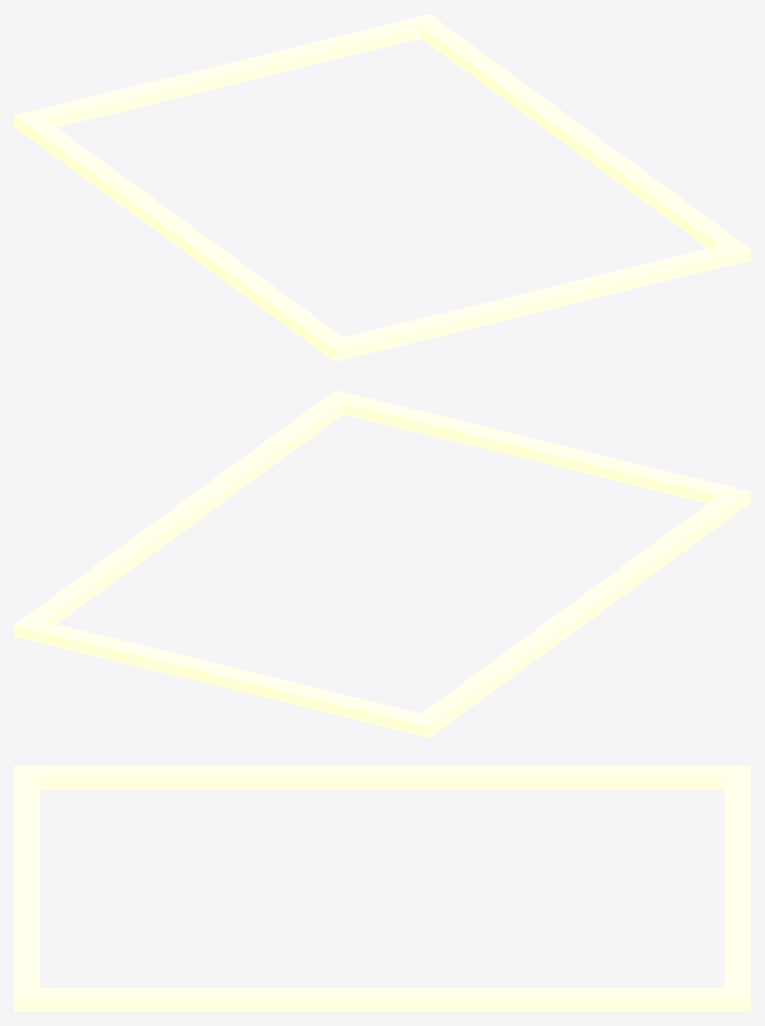
Rendered from sp_gt_rim_g.glb.
3 renders of one model, top to bottom at view 1: azimuth 30°, elevation 25°; view 2: azimuth 150°, elevation 25°; view 3: azimuth 270°, elevation 25°, orthographic. The views are drawn at different scales.
Parts seen in each view (by area): view 1: spire; view 2: spire; view 3: spire.
Boxes of the visible parts, left/top/right/bottom form: spire: left=14, top=14, right=750, bottom=361; spire: left=14, top=390, right=750, bottom=737; spire: left=14, top=766, right=750, bottom=1011.
Size of the model in its own units: 0.462 by 0.012 by 0.618.
